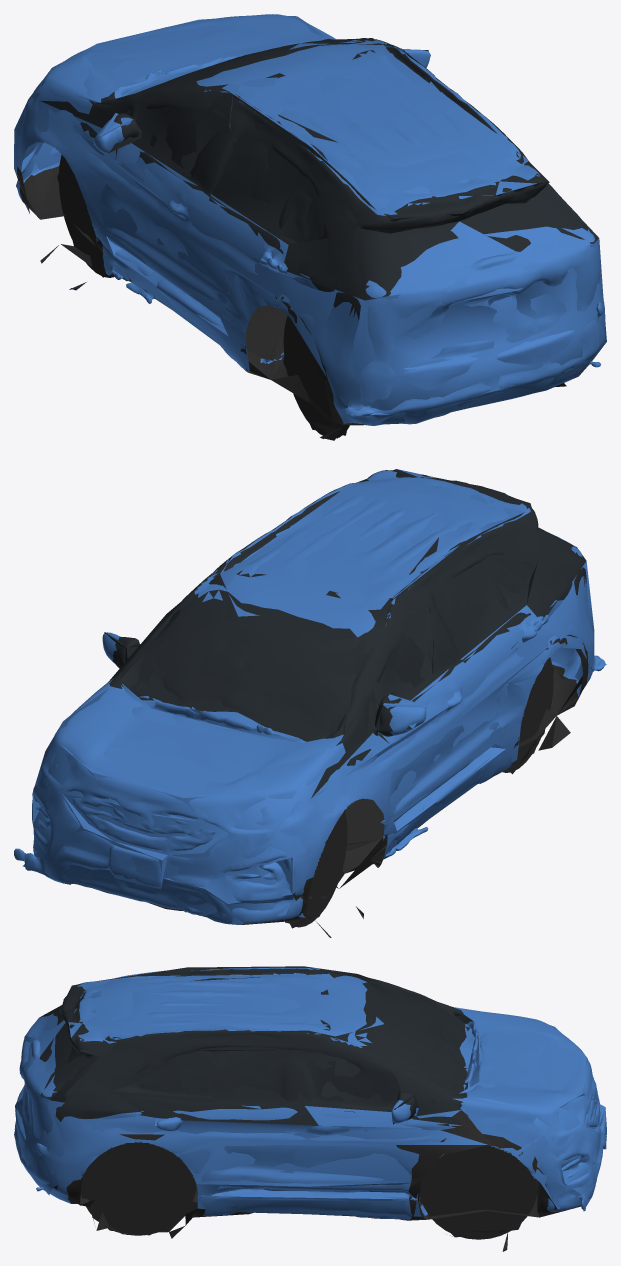
File: ford-edge.glb
3 views of the same model, one above another, from view 1: azimuth 30°, elevation 25°; view 2: azimuth 150°, elevation 25°; view 3: azimuth 270°, elevation 25° (orthographic). The views are drawn at different scales.
Visible parts, largest first — view 1: body, far; view 2: body, far; view 3: body, far.
Part boxes in pixels (left/top/right/bottom): body: left=14, top=14, right=605, bottom=440; far: left=14, top=16, right=606, bottom=435; body: left=14, top=470, right=605, bottom=937; far: left=22, top=469, right=606, bottom=928; body: left=14, top=967, right=606, bottom=1251; far: left=14, top=966, right=606, bottom=1237.
Size of the model in its own units: 2.47 by 1.82 by 4.86.
